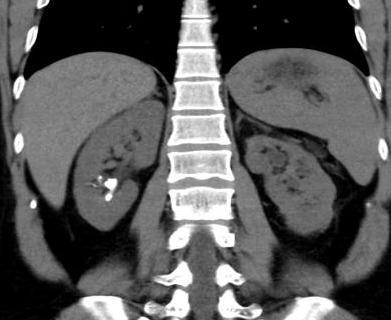Tas_Var: (103, 175, 118, 191), (105, 193, 114, 202), (96, 173, 102, 180)
